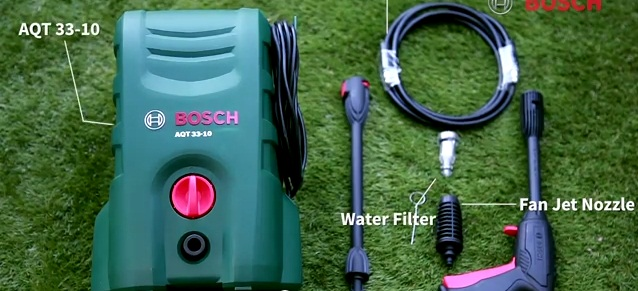Bosch: (171, 107, 243, 128)
